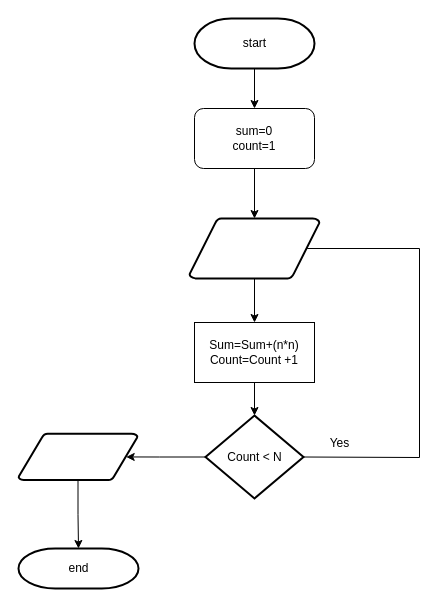
Image size: 438x606. Some labels were removed from this diagram. Each missing label, with the centre of its shape:
Enter= N: (254,248)
Print sum: (77,456)
